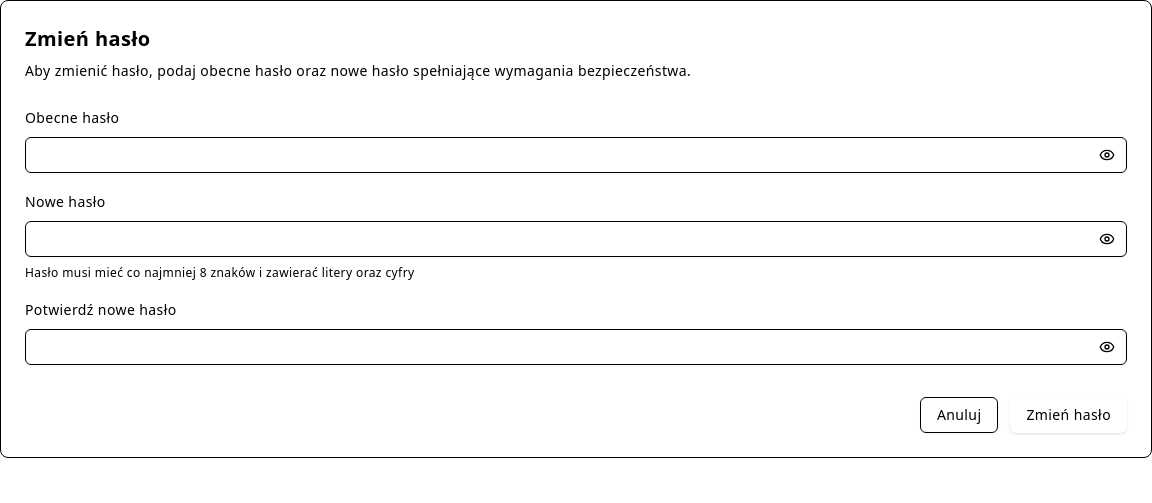
Scenario: ChangePasswordCard › validates new password contains letters and numbers
The width and height of the screenshot is (1152, 503).
Type "OldPassword123" into the password field labelled "Obecne hasło" at (576, 155), box [25,137,1127,173]
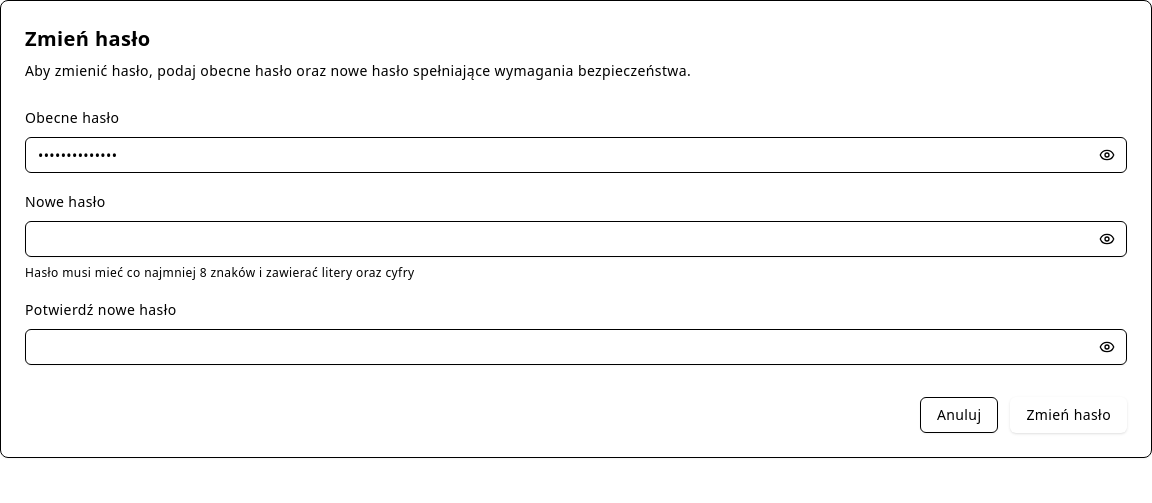
Type "OnlyLetters" into the password field labelled "Nowe hasło" at (576, 239), box [25,221,1127,257]
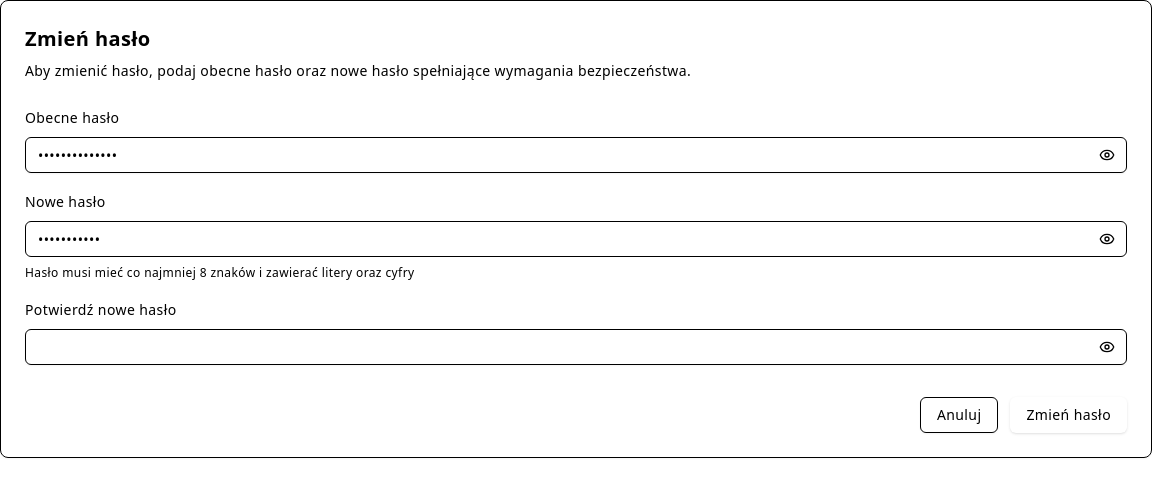
Type "OnlyLetters" into the password field labelled "Potwierdź nowe hasło" at (576, 347), box [25,329,1127,365]
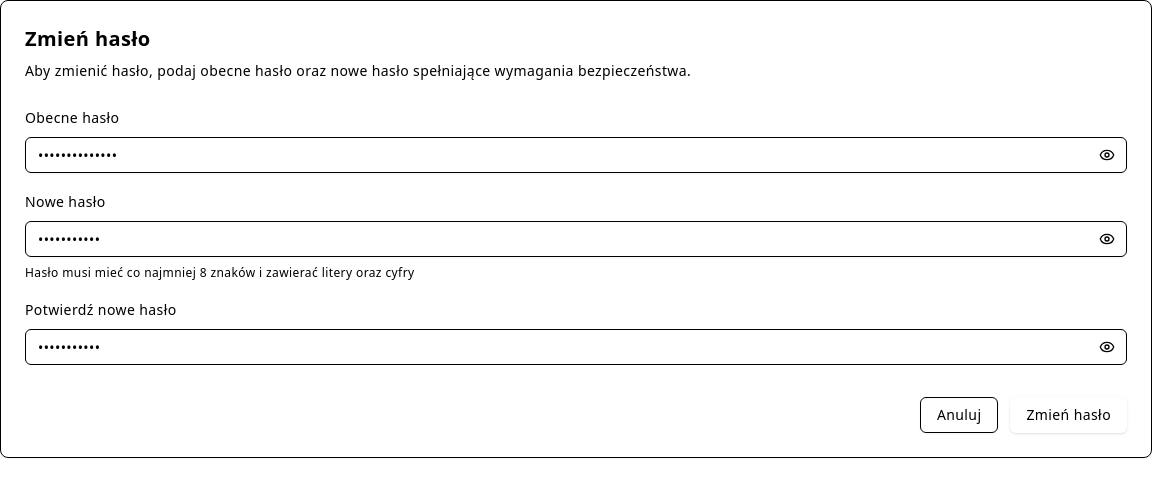
Click the button "Zmień hasło" at (1069, 415), box [1010,397,1127,433]
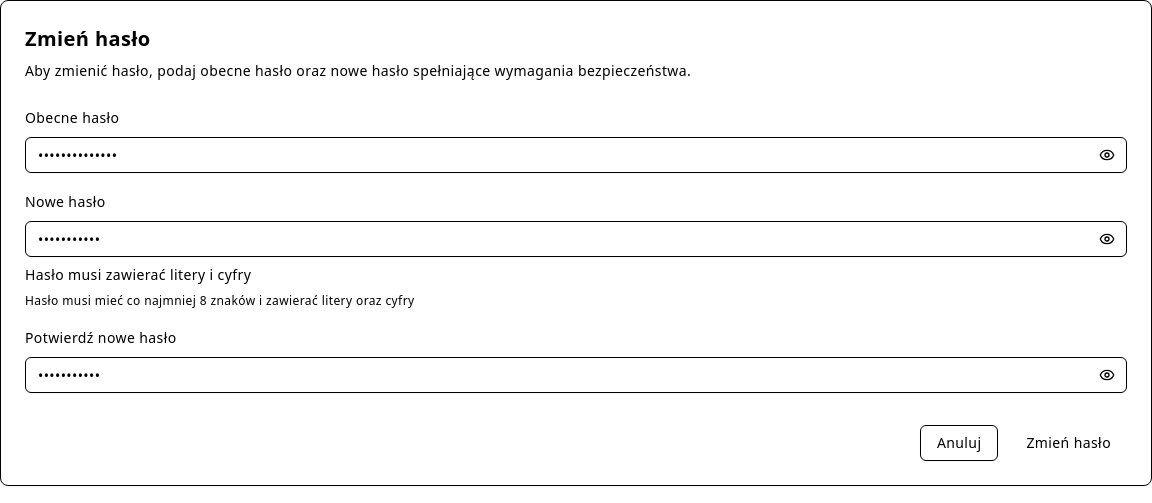
Now the text "Hasło musi zawierać litery i cyfry" is shown, box [25,265,251,284]
